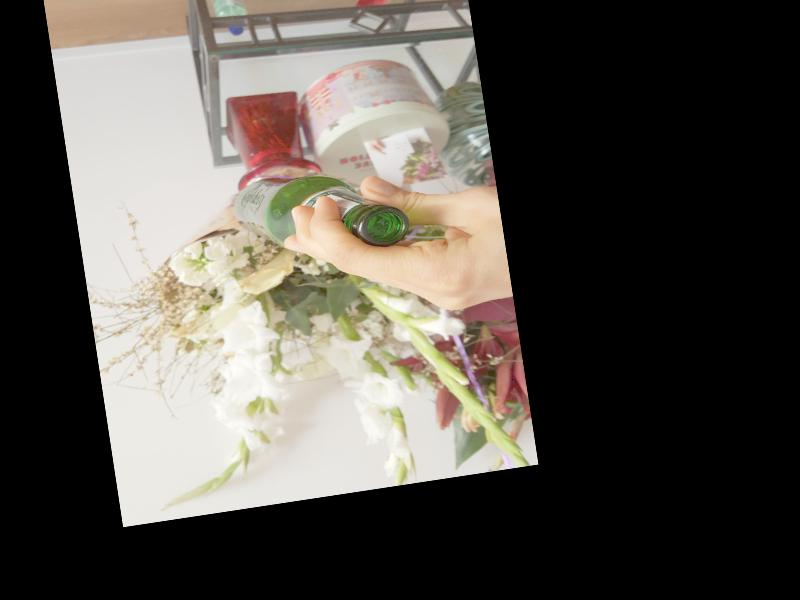Beer: (229, 157, 411, 266)
